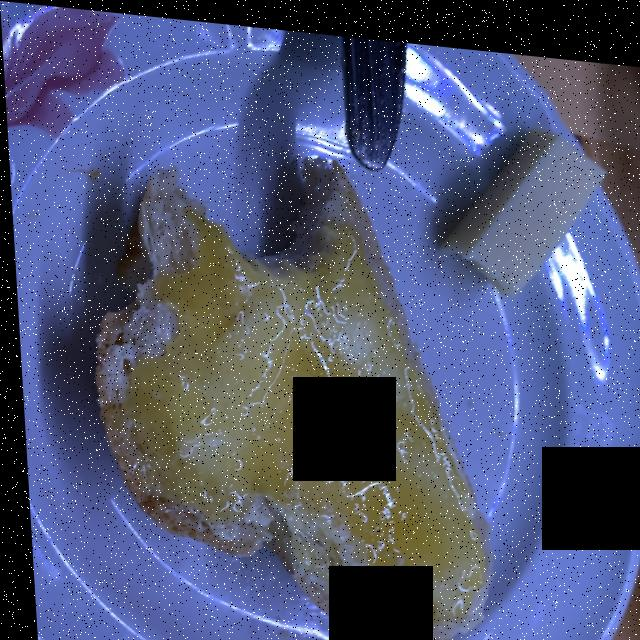braided-white-loaf: (96, 169, 478, 640)
honey: (120, 226, 469, 621)
